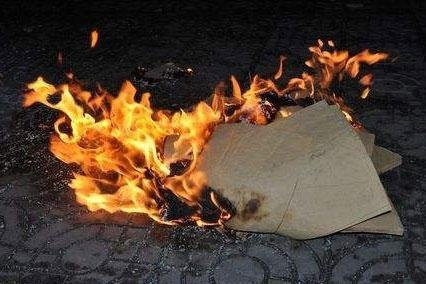fire: (20, 74, 226, 224)
